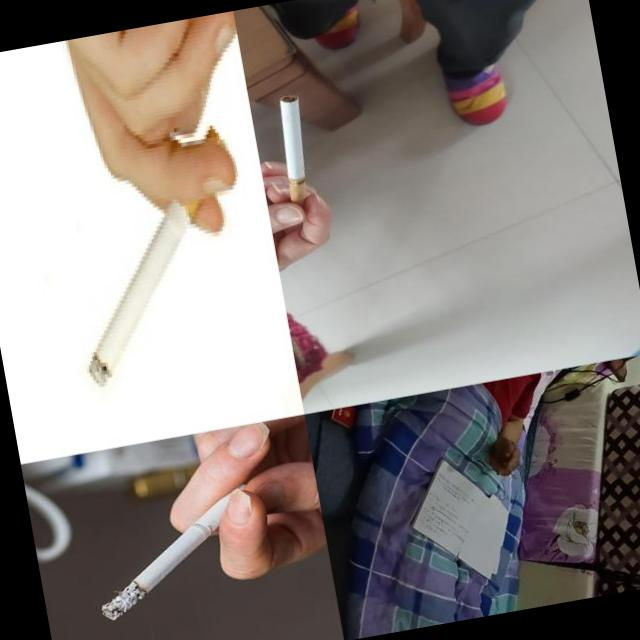smoke: (58, 196, 226, 397), (82, 481, 268, 624), (270, 92, 320, 208), (502, 460, 516, 480)
